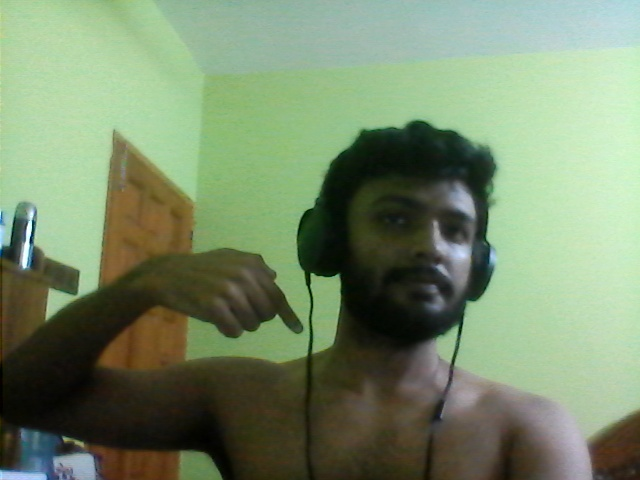I: (145, 228, 308, 355)
